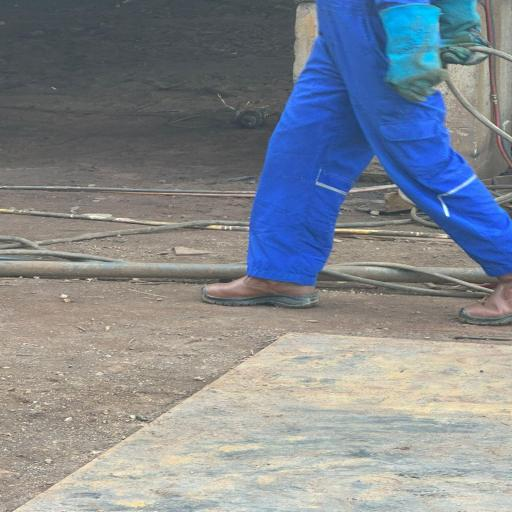safety_shoe: (202, 274, 328, 310), (453, 267, 512, 326)
